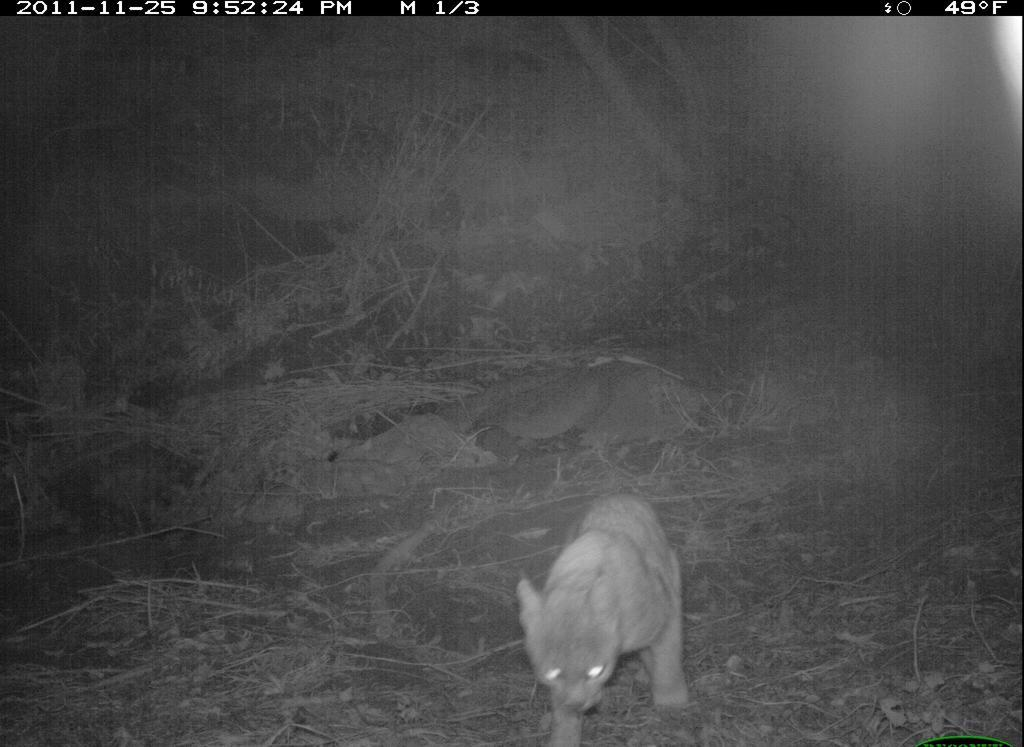bobcat: (504, 463, 711, 738)
